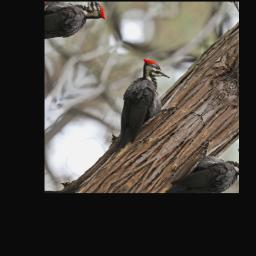Woodpecker: (75, 53, 190, 166)
